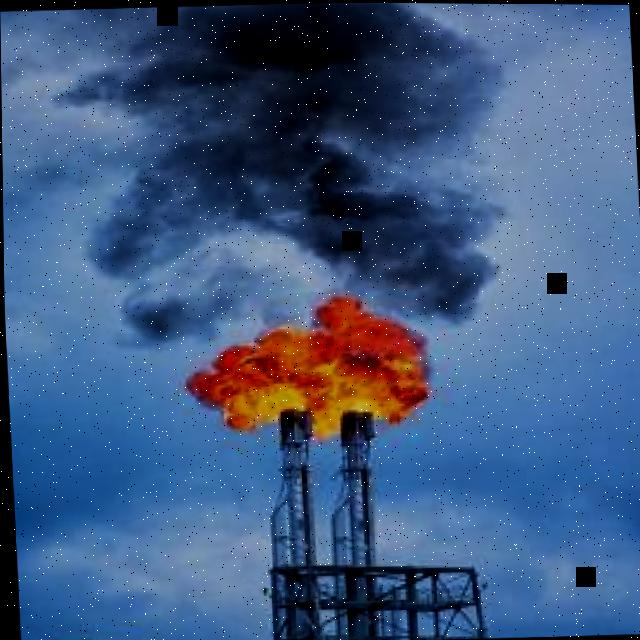fire: (184, 295, 430, 440)
smoke: (0, 2, 511, 323), (113, 245, 331, 349)
